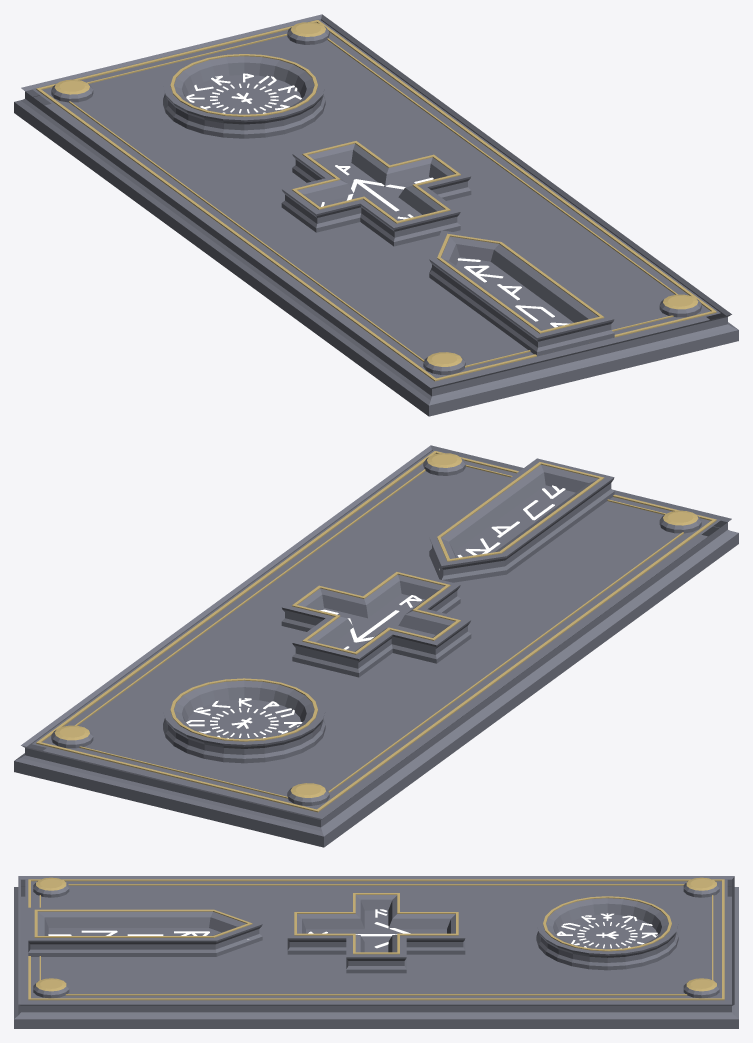
File: RelicTablet.fbx
3 views of the same model, one above another, from view 1: azimuth 30°, elevation 25°; view 2: azimuth 150°, elevation 25°; view 3: azimuth 270°, elevation 25° (orthographic). The views are drawn at different scales.
Visible parts, largest first — view 1: RelicTablet, RuneMoon, RuneBlade; view 2: RelicTablet, RuneMoon, RuneBlade; view 3: RelicTablet, RuneMoon, RuneBlade, RuneHilt.
Part boxes in pixels (<box>): RelicTablet: <box>14,14,738,416</box>; RuneMoon: <box>186,73,301,113</box>; RuneBlade: <box>457,258,569,327</box>; RelicTablet: <box>14,445,738,847</box>; RuneMoon: <box>186,698,302,738</box>; RuneBlade: <box>439,485,565,569</box>; RelicTablet: <box>14,876,738,1028</box>; RuneMoon: <box>556,913,657,948</box>; RuneBlade: <box>48,930,248,939</box>; RuneHilt: <box>308,909,410,948</box>.
Size of the model in its own units: 0.88 by 0.1225 by 2.04.
